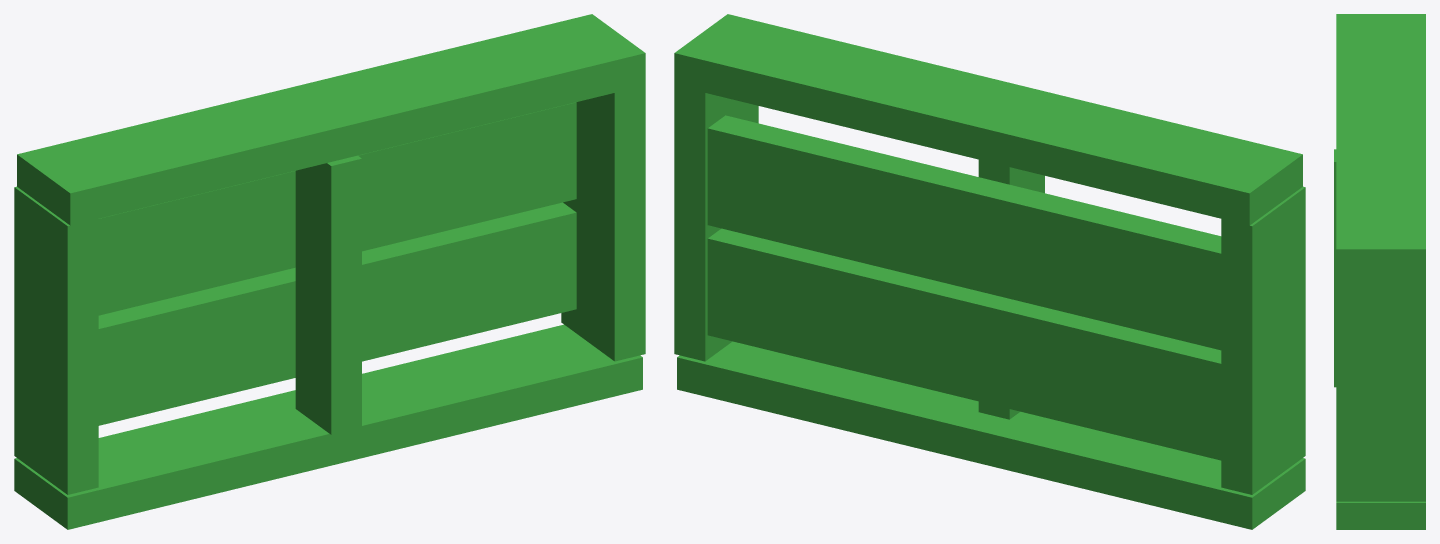
Rendered from tinker.obj.
3 renders of one model, left to right at view 1: azimuth 30°, elevation 25°; view 2: azimuth 150°, elevation 25°; view 3: azimuth 270°, elevation 25°, orthographic. The views are drawn at different scales.
Visible parts, largest first — view 1: obj_0; view 2: obj_0; view 3: obj_0.
Part boxes in pixels (x1,y1,x2,y2): obj_0: (14, 14, 645, 529); obj_0: (674, 14, 1305, 529); obj_0: (1334, 14, 1425, 529).
Bounding box in the file's own units: 225 × 125 × 37.
